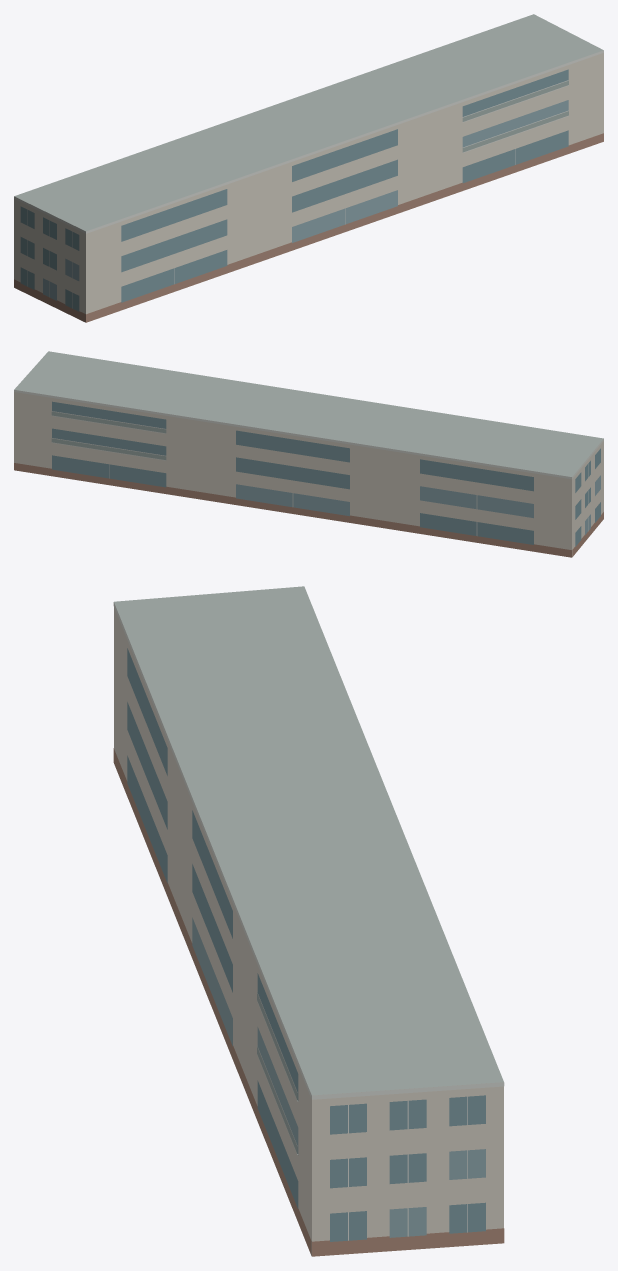
File: survey-upis-32753548.glb
The picture shows the model from 3 angles, top to bottom: view 1: azimuth 30°, elevation 25°; view 2: azimuth 150°, elevation 25°; view 3: azimuth 270°, elevation 25°; orthographic projection. The views are drawn at different scales.
Visible parts, largest first — view 1: survey-upis-32753548.tmp; view 2: survey-upis-32753548.tmp; view 3: survey-upis-32753548.tmp.
Part boxes in pixels (left/top/right/bottom): survey-upis-32753548.tmp: left=14, top=14, right=603, bottom=322; survey-upis-32753548.tmp: left=14, top=351, right=603, bottom=557; survey-upis-32753548.tmp: left=113, top=586, right=504, bottom=1256.
Size of the model in its own units: 62.04 by 9.15 by 20.1.
